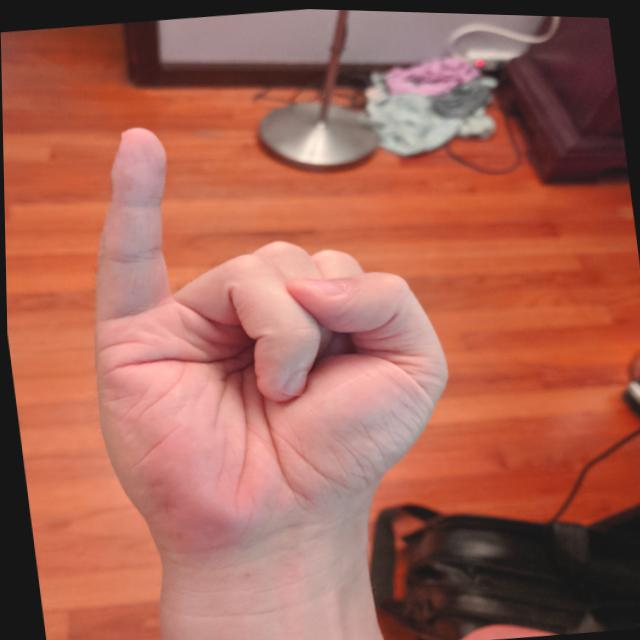I: (50, 86, 477, 578)
